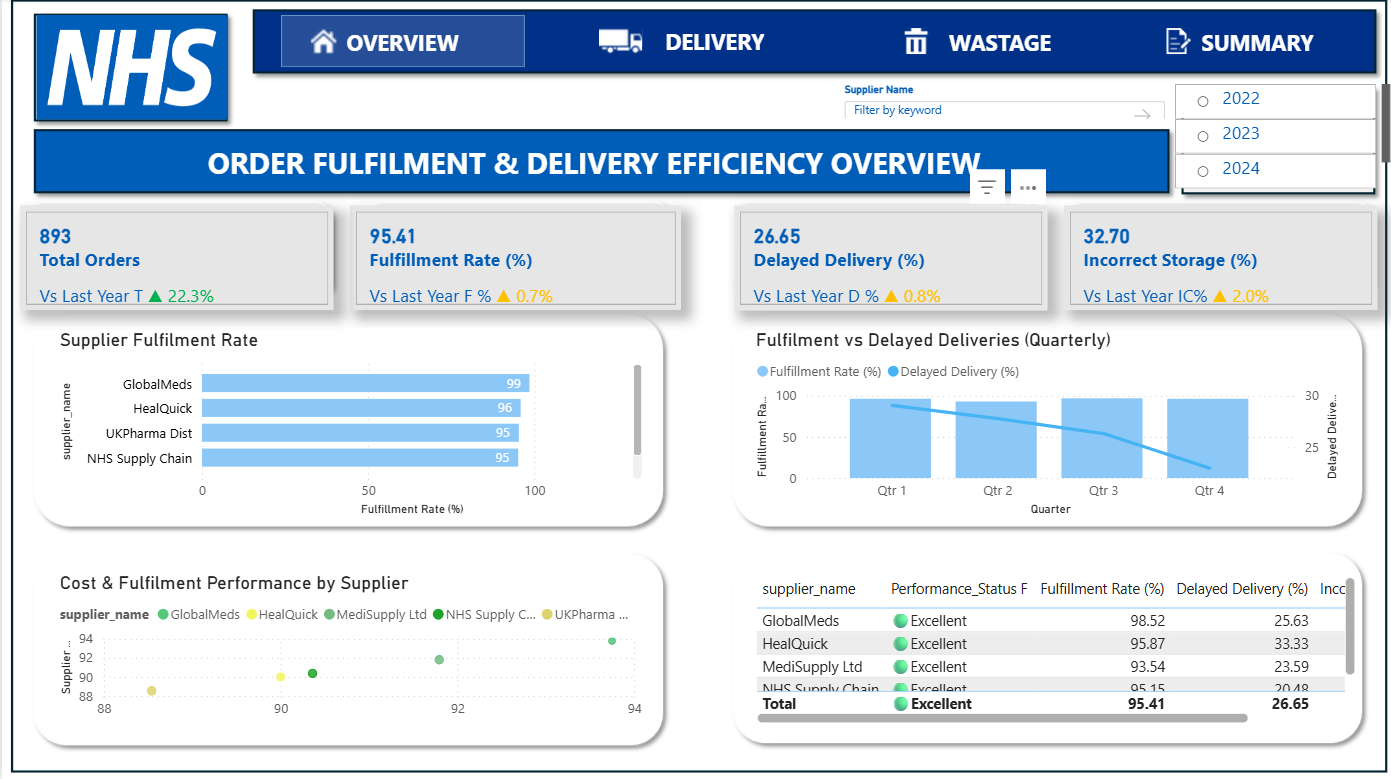

The page's visual inventory and layout, read from the dashboard file:
{"tool":"powerbi","page":{"name":"Page 1","canvas":[1280,720],"ordinal":0},"visuals":[{"type":"cardVisual","fields":{"Data":["nhs_pharma_clean.Fulfillment Rate"]},"box":[320,192,304,96],"z":0},{"type":"clusteredBarChart","title":"Supplier Fulfilment Rate","fields":{"Category":["nhs_pharma_clean.supplier_name"],"Y":["nhs_pharma_clean.Fulfillment Rate"]},"box":[48,304,544,176],"z":1000},{"type":"lineClusteredColumnComboChart","title":"Fulfilment vs Delayed Deliveries (Quarterly)","fields":{"Category":["nhs_pharma_clean.delivery_date.Variation.Date Hierarchy.Quarter"],"Y2":["nhs_pharma_clean.Delayed Delivery %"],"Y":["nhs_pharma_clean.Fulfillment Rate"]},"box":[688,304,544,176],"z":2000},{"type":"scatterChart","title":"Cost & Fulfilment Performance by Supplier","fields":{"Size":["nhs_pharma_clean.Supplier Total Cost"],"Category":["nhs_pharma_clean.supplier_name"],"Series":["nhs_pharma_clean.supplier_name"],"X":["_Measures2.Supplier Fulfilment Rate"],"Y":["_Measures2.Supplier Fulfilment Rate"]},"box":[48,528,544,144],"z":3000},{"type":"tableEx","fields":{"Values":["nhs_pharma_clean.supplier_name","_Measures2.Performance_Status F","nhs_pharma_clean.Fulfillment Rate","nhs_pharma_clean.Delayed Delivery %","_Measures.Incorrect Storage %"]},"box":[688,528,560,144],"z":4000},{"type":"cardVisual","fields":{"Data":["nhs_pharma_clean.Delayed Delivery %"]},"box":[672,192,288,96],"z":5000},{"type":"cardVisual","fields":{"Data":["_Measures.Incorrect Storage %"]},"box":[976,192,288,96],"z":6000},{"type":"cardVisual","fields":{"Data":["_Measures2.Total Orders"]},"box":[16,192,288,96],"z":7000},{"type":"advancedSlicerVisual","fields":{"Values":["Date_Table.Year"]},"box":[1072,80,208,96],"z":8000},{"type":"image","box":[32,16,176,96],"z":9000},{"type":"textbox","box":[32,128,1024,48],"z":10000},{"type":"textSlicer","title":"Supplier Name","fields":{"Values":["nhs_pharma_clean.supplier_name"]},"box":[768,80,304,32],"z":11000},{"type":"actionButton","box":[272,16,160,48],"z":12000},{"type":"actionButton","box":[1056,16,160,48],"z":13000},{"type":"actionButton","box":[816,16,160,48],"z":14000},{"type":"actionButton","box":[544,16,160,48],"z":15000},{"type":"shape","box":[256,16,224,48],"z":16000}]}

Visuals, with their boxes in screenshot pixels (x1, y1, x2, y2), scaled from the page's 1280x720 canvas onto the 1391x779 screenshot:
cardVisual - nhs_pharma_clean.Fulfillment Rate: Rect(348, 208, 678, 312)
"Supplier Fulfilment Rate" clusteredBarChart: Rect(52, 329, 643, 519)
"Fulfilment vs Delayed Deliveries (Quarterly)" lineClusteredColumnComboChart: Rect(748, 329, 1339, 519)
"Cost & Fulfilment Performance by Supplier" scatterChart: Rect(52, 571, 643, 727)
tableEx - nhs_pharma_clean.supplier_name x _Measures2.Performance_Status F: Rect(748, 571, 1356, 727)
cardVisual - nhs_pharma_clean.Delayed Delivery %: Rect(730, 208, 1043, 312)
cardVisual - _Measures.Incorrect Storage %: Rect(1061, 208, 1374, 312)
cardVisual - _Measures2.Total Orders: Rect(17, 208, 330, 312)
advancedSlicerVisual - Date_Table.Year: Rect(1165, 87, 1390, 190)
image: Rect(35, 17, 226, 121)
textbox: Rect(35, 138, 1148, 190)
"Supplier Name" textSlicer: Rect(835, 87, 1165, 121)
actionButton: Rect(296, 17, 469, 69)
actionButton: Rect(1148, 17, 1321, 69)
actionButton: Rect(887, 17, 1061, 69)
actionButton: Rect(591, 17, 765, 69)
shape: Rect(278, 17, 522, 69)
